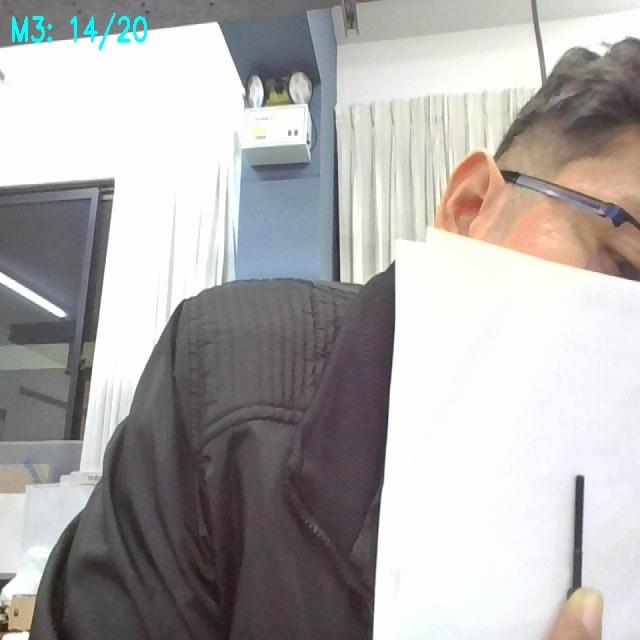vastago: (572, 475, 583, 588)
